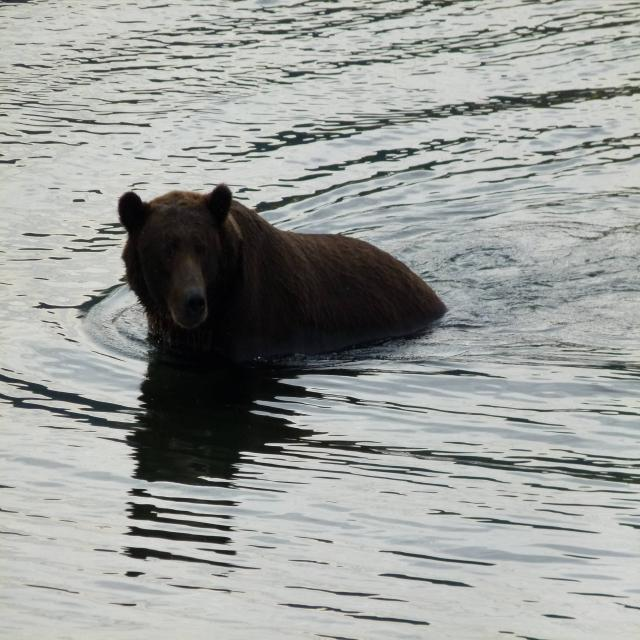bear face: (115, 189, 445, 338)
